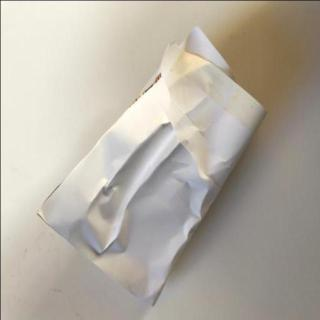Anorganik: (34, 27, 270, 309)
